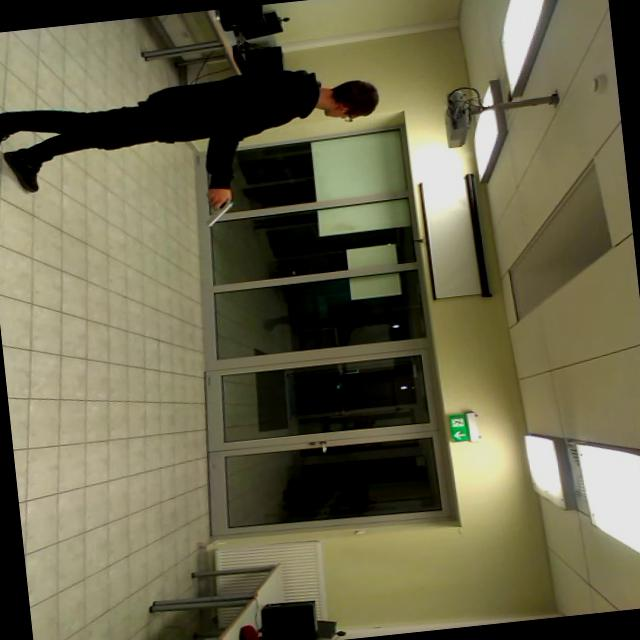handgun: (184, 192, 242, 236)
